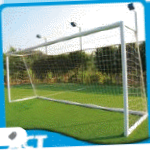goals: (5, 20, 148, 137)
